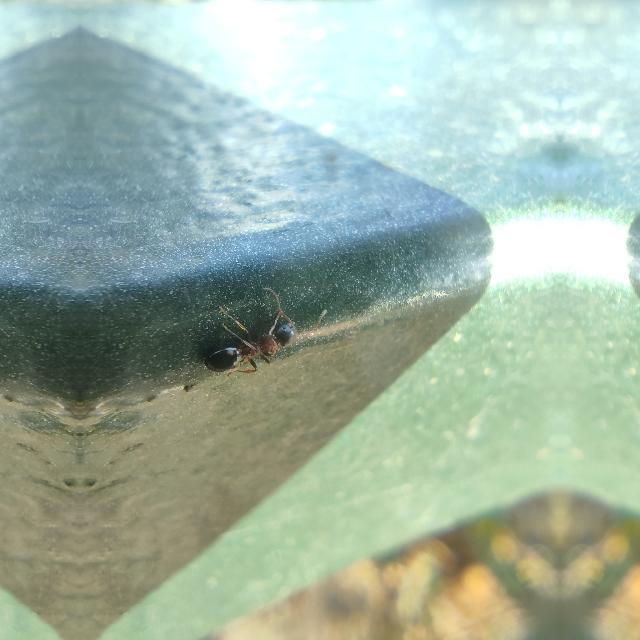Dolichoderus: (194, 291, 308, 384)
